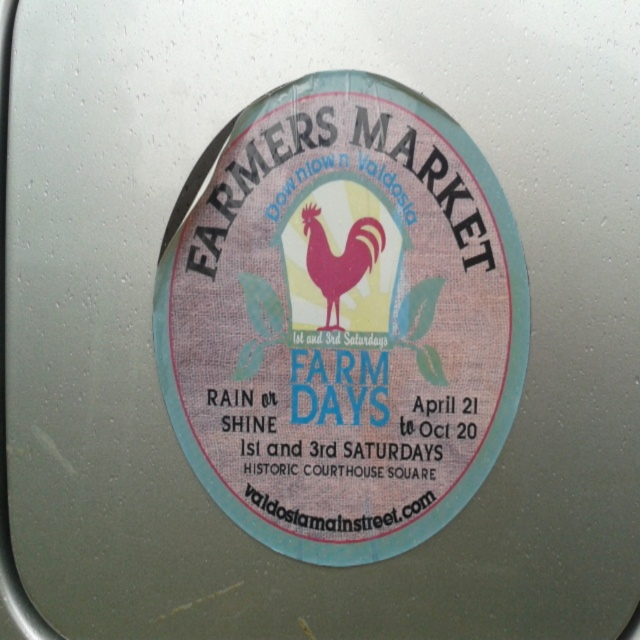Chicken: (305, 199, 382, 329)
